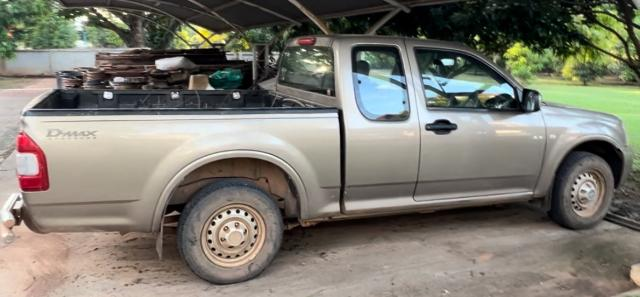pickup-truck: (6, 32, 630, 287)
